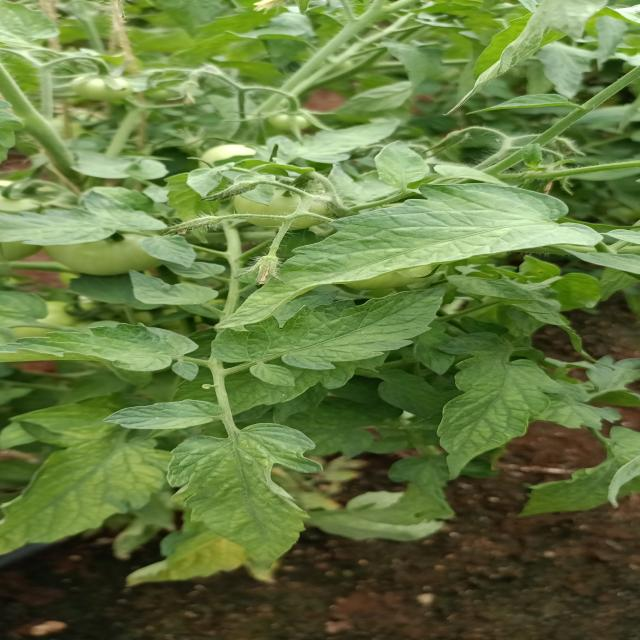Healthy Leaf: (246, 180, 600, 319), (162, 429, 328, 585), (431, 340, 562, 470), (251, 288, 444, 375), (90, 394, 212, 436)
